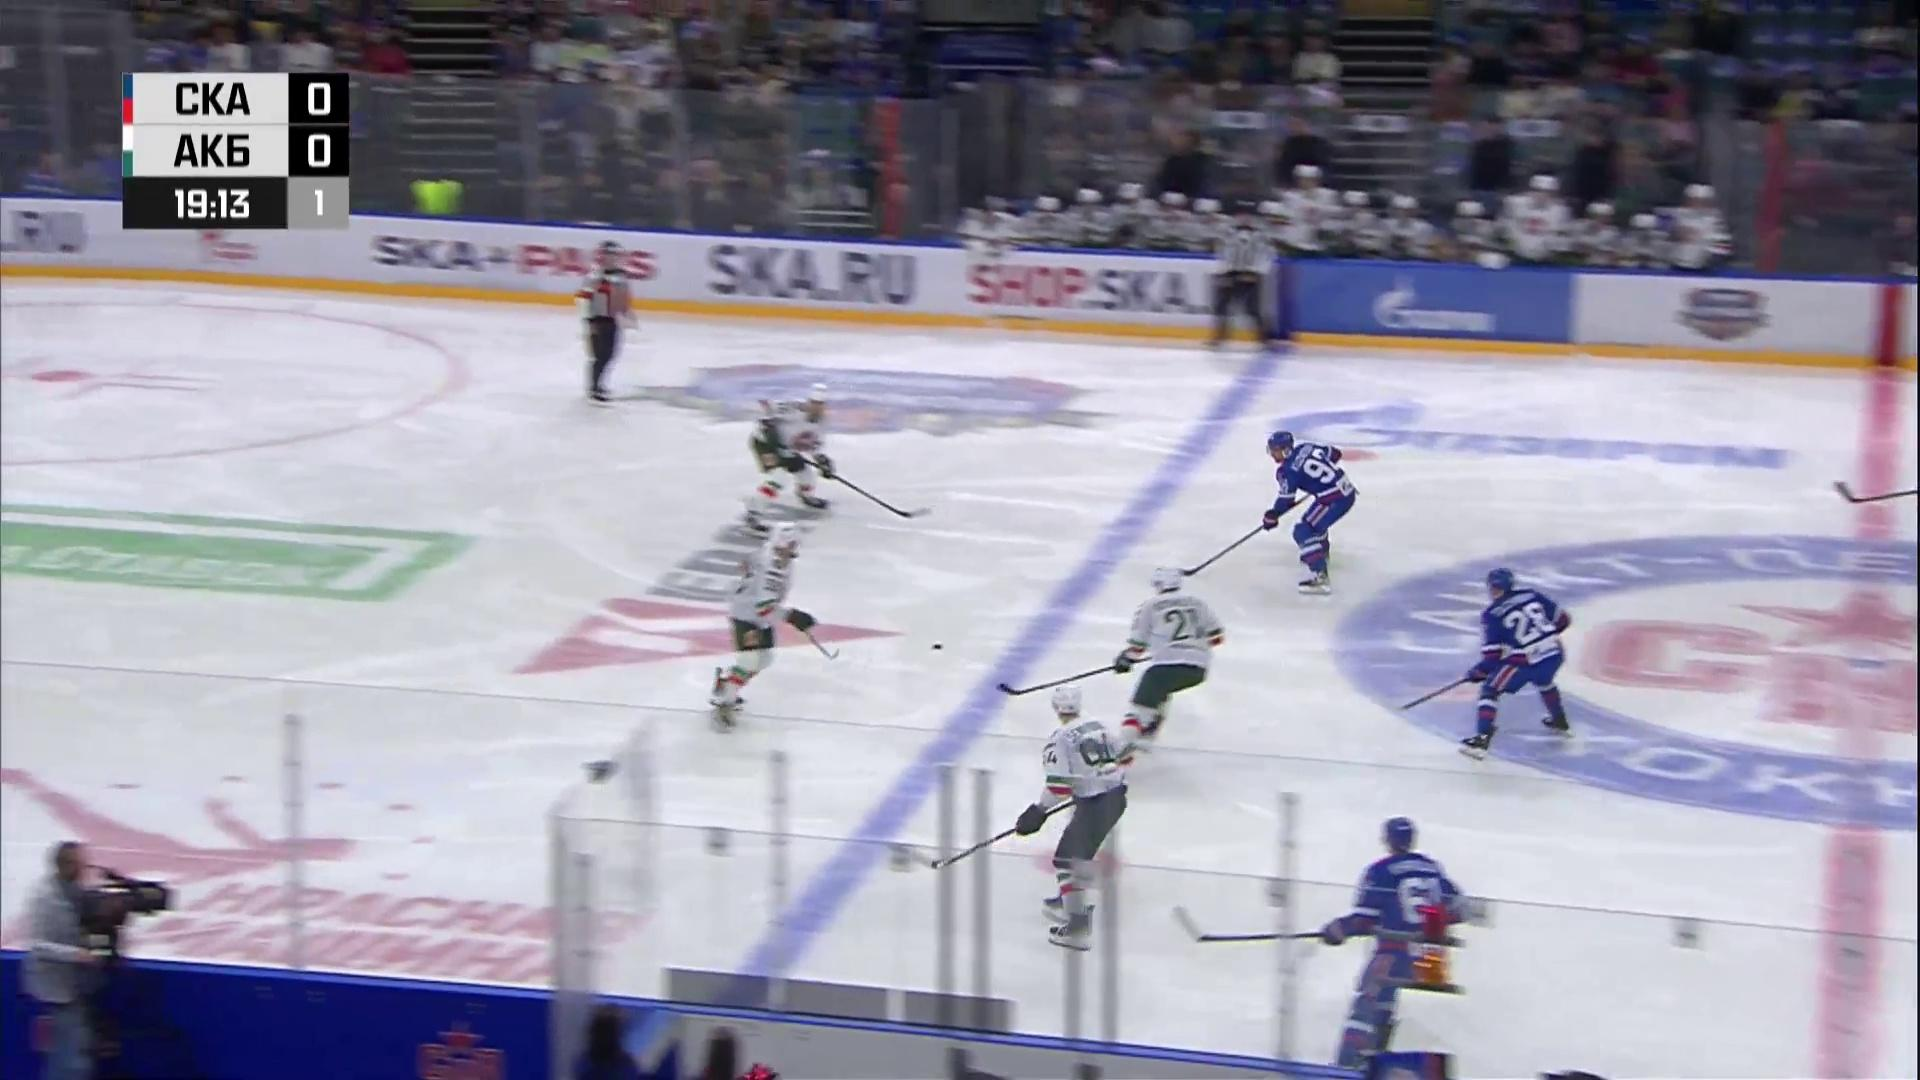ball: (932, 644, 943, 650)
